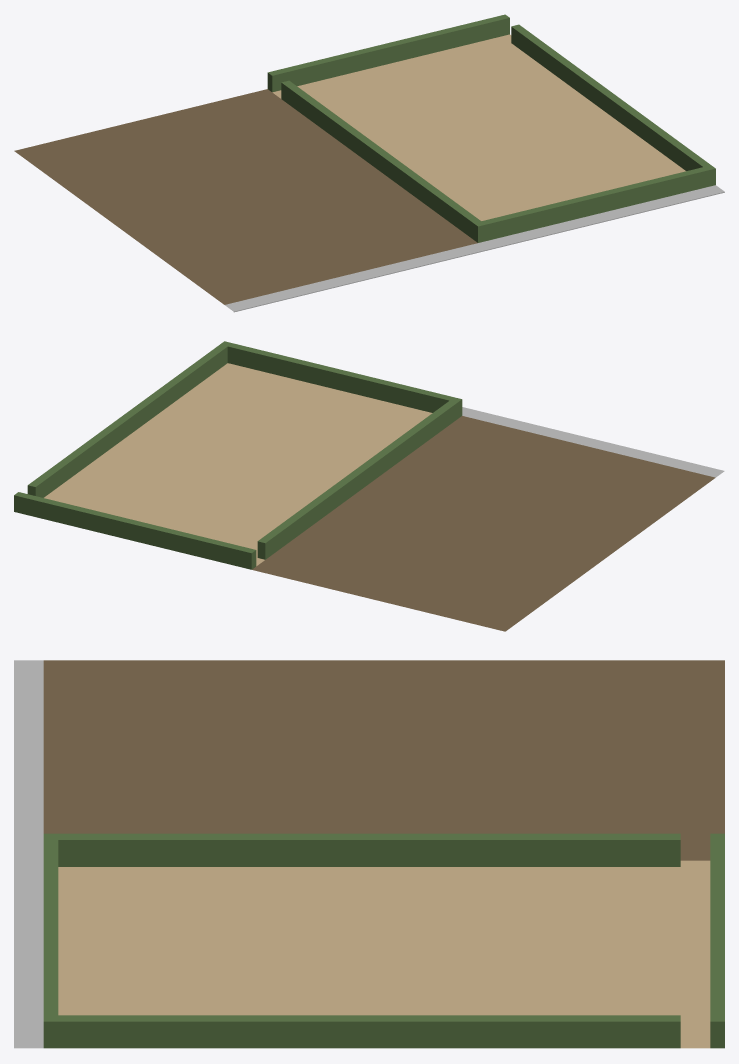
The model's file is urbanisation.glb.
The picture shows the model from 3 angles, top to bottom: view 1: azimuth 30°, elevation 25°; view 2: azimuth 150°, elevation 25°; view 3: azimuth 270°, elevation 25°; orthographic projection. The views are drawn at different scales.
Parts seen in each view (by area): view 1: Plane, Hedges; view 2: Plane, Hedges; view 3: Plane, Hedges.
Part boxes in pixels (x1,y1,x2,y2): Plane: (14,34,724,312); Hedges: (267,14,715,242); Plane: (44,363,724,631); Hedges: (14,341,462,569); Plane: (14,660,724,1048); Hedges: (43,833,724,1048).
Size of what is drawn, in the model's own units: 62 by 2.1 by 48.
